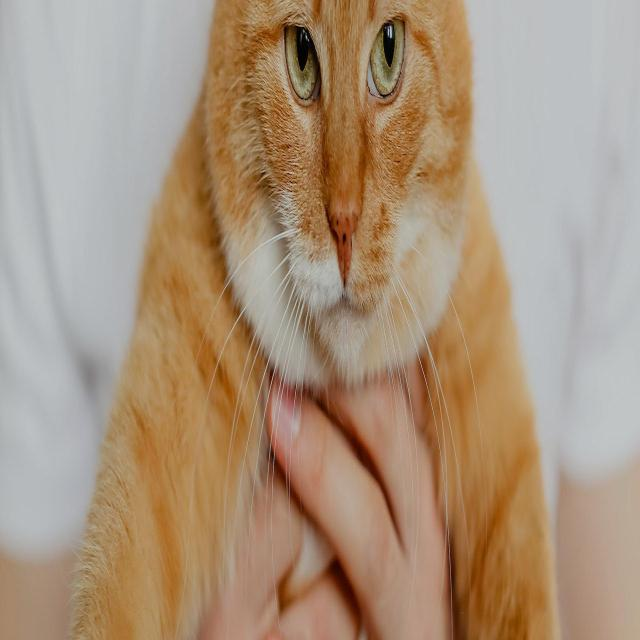Cat: (196, 6, 500, 382)
